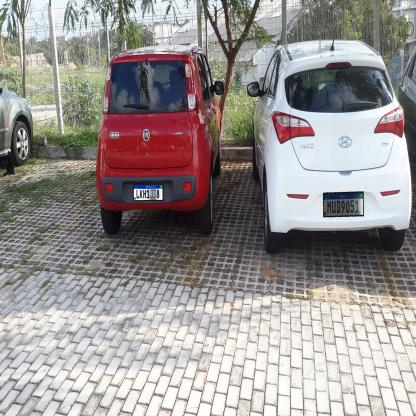PlacaM: (323, 192, 364, 218), (133, 184, 163, 201)
